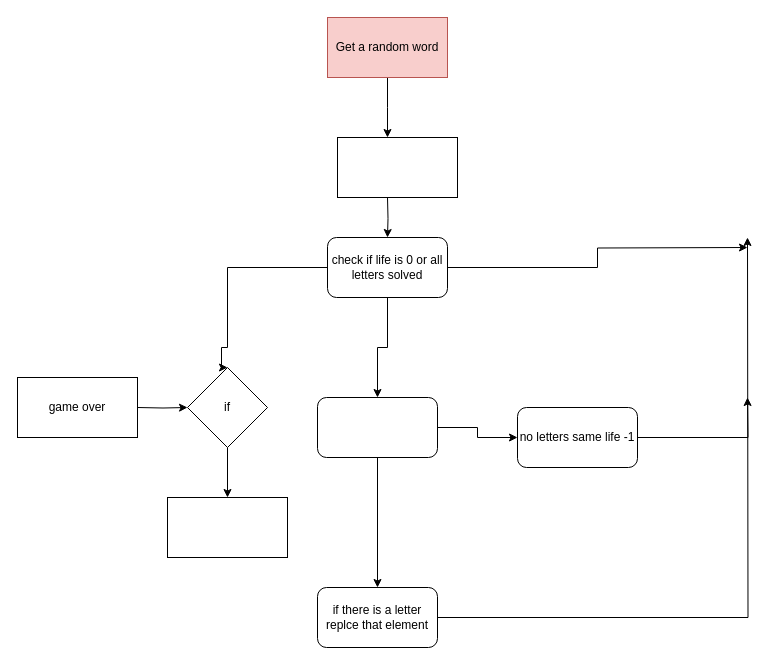
Image size: 774x665. Some labels were removed from this diagram. The shapes that lost their labels are listed below. From the top down, each one's centre as x and y in pixels, then its label:
point (397, 167): life = 6
point (377, 427): get and check user input to the question
point (227, 527): game won
